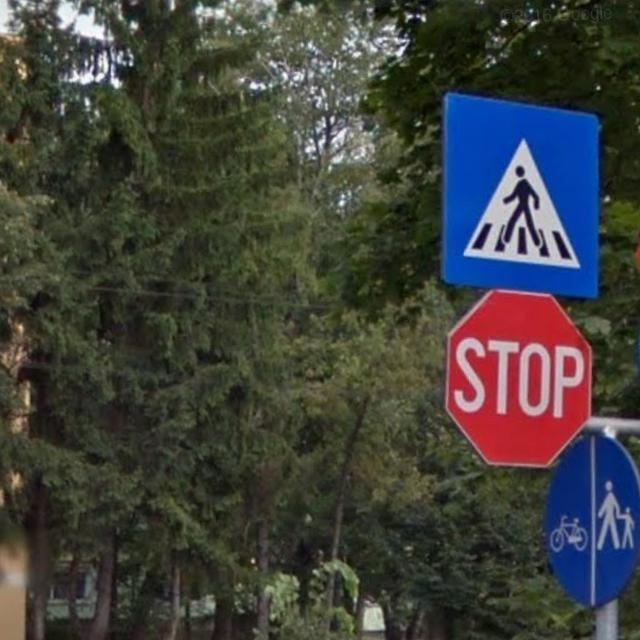info_crosswalk: (440, 89, 601, 302)
prio_stop: (445, 290, 590, 467)
